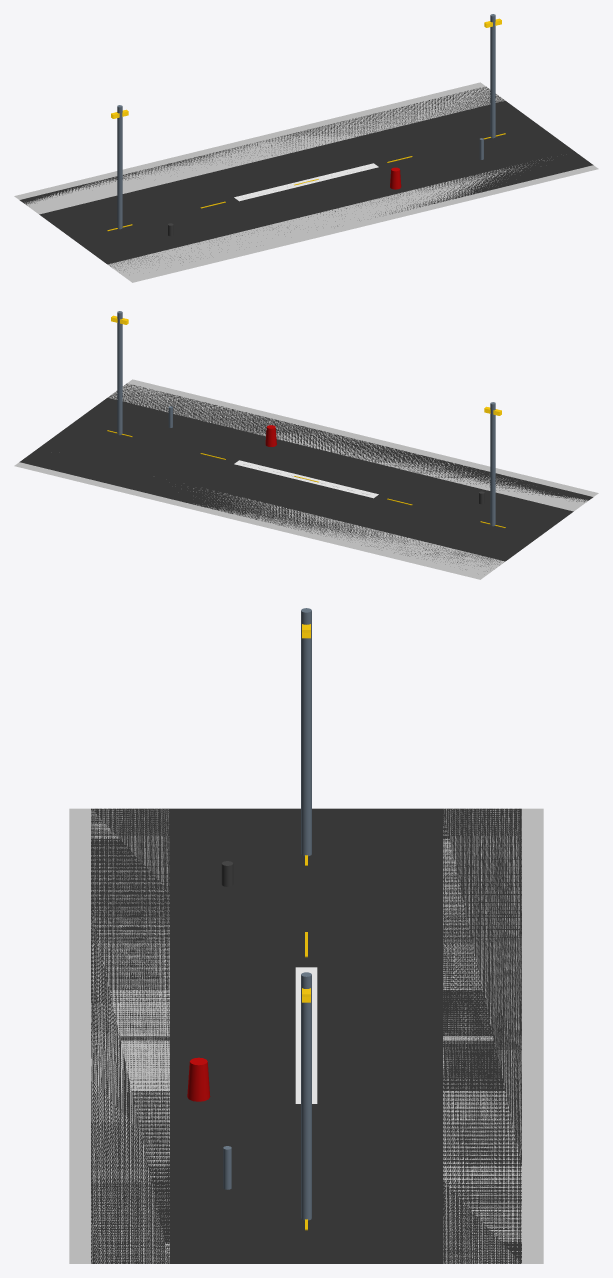
The model's file is street_scene_2005.glb.
3 views of the same model, one above another, from view 1: azimuth 30°, elevation 25°; view 2: azimuth 150°, elevation 25°; view 3: azimuth 270°, elevation 25° (orthographic). The views are drawn at different scales.
Size of the model in its own units: 30 by 7.5 by 13.2.
